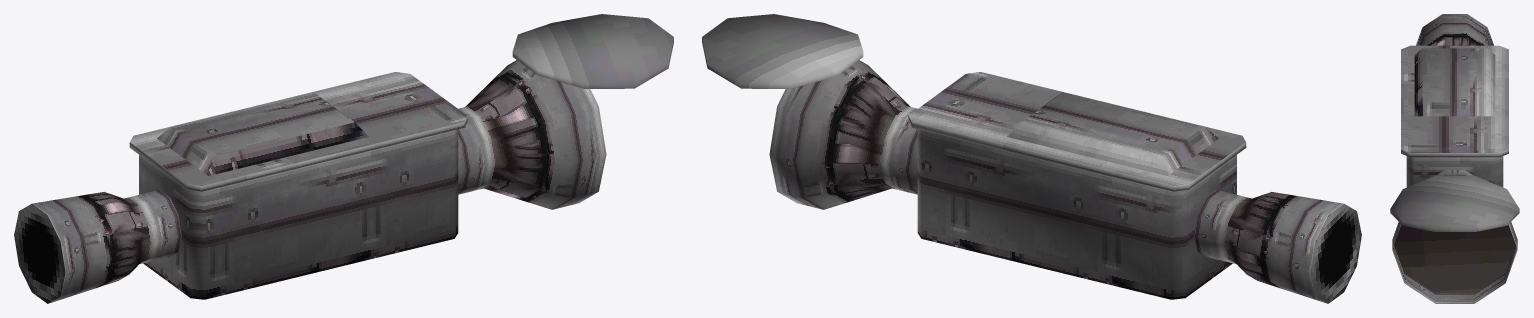
Rendered from stoner_sr25__N003_thermal_scope_v0100.glb.
3 renders of one model, left to right at view 1: azimuth 30°, elevation 25°; view 2: azimuth 150°, elevation 25°; view 3: azimuth 270°, elevation 25°, orthographic. The views are drawn at different scales.
Parts seen in each view (by area): view 1: N003_thermal_scope_v0100; view 2: N003_thermal_scope_v0100; view 3: N003_thermal_scope_v0100.
Part boxes in pixels (bbox=[...]): N003_thermal_scope_v0100: bbox=[14, 14, 673, 303]; N003_thermal_scope_v0100: bbox=[702, 14, 1361, 303]; N003_thermal_scope_v0100: bbox=[1390, 14, 1519, 303].
Bounding box in the file's own units: 0.435 × 0.0962 × 0.1.
2 materials, 2 textured.
